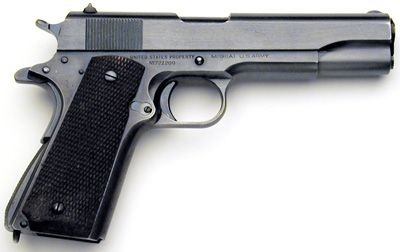gun: (2, 3, 395, 245)
